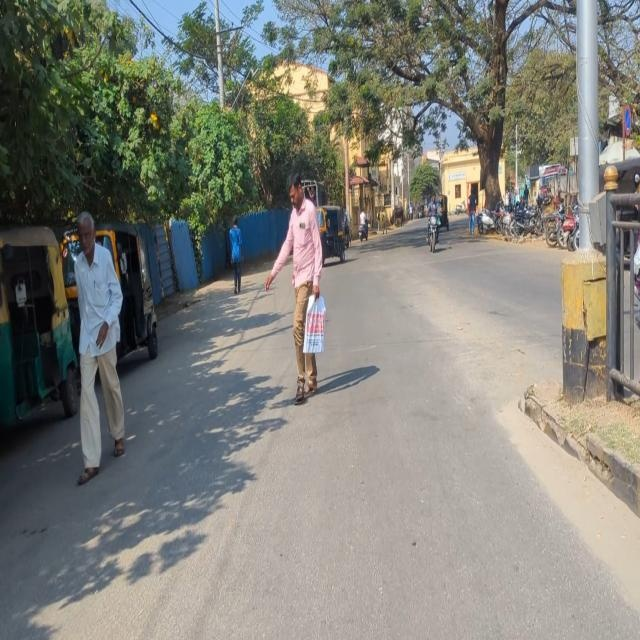bien_nguy_hiem: (623, 104, 631, 138)
